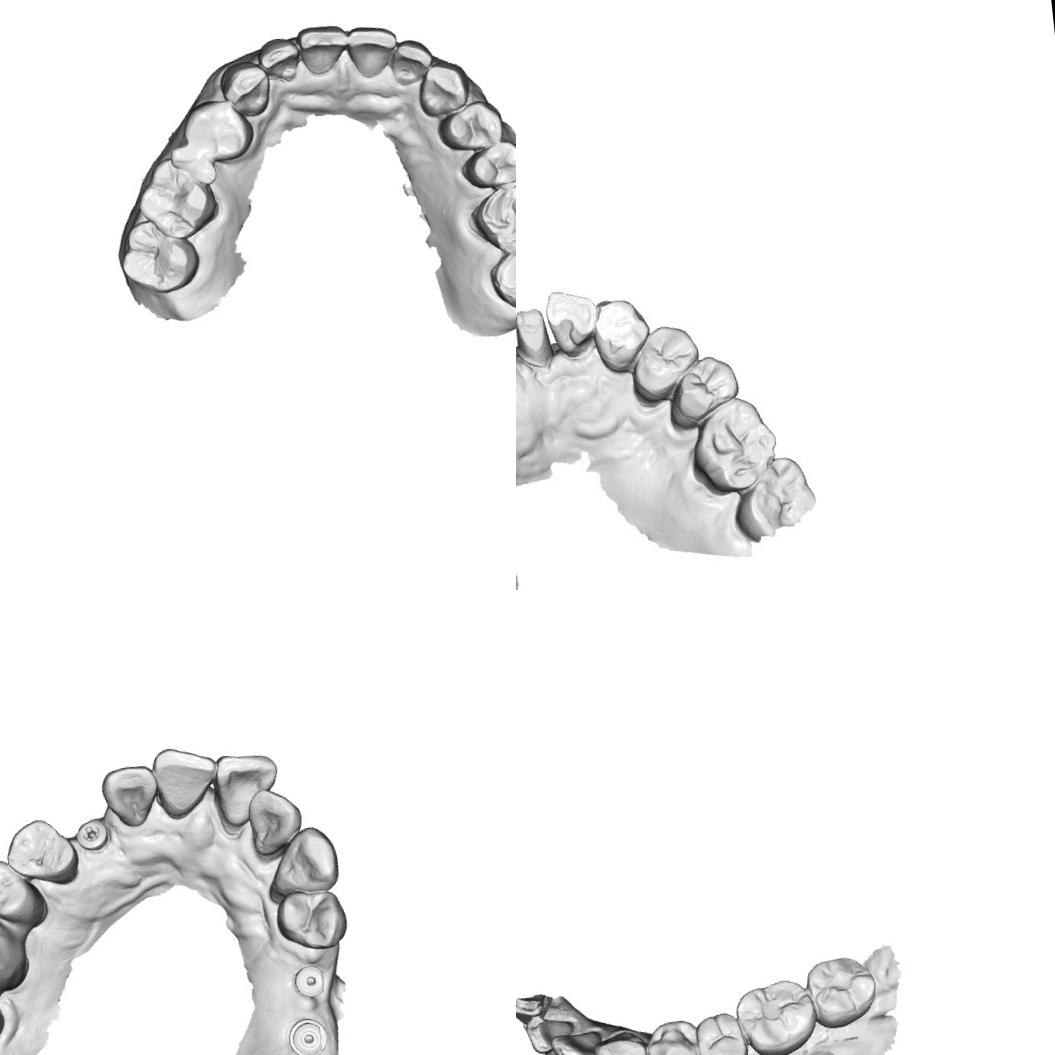canine: (262, 822, 342, 900), (215, 57, 276, 121), (414, 58, 472, 120), (594, 296, 646, 360), (590, 1027, 653, 1055)
crown: (516, 305, 553, 364)
implant: (285, 1015, 333, 1055), (290, 959, 330, 1001)
implant_plus: (73, 814, 113, 854)
incisor: (209, 748, 284, 832), (148, 742, 222, 820), (243, 783, 307, 860), (97, 761, 162, 833), (344, 21, 403, 82), (543, 286, 596, 352), (294, 20, 352, 80), (386, 35, 437, 89), (524, 1009, 580, 1055), (255, 34, 304, 86), (548, 1027, 608, 1055)
molar: (127, 151, 222, 246), (112, 214, 206, 300), (695, 396, 779, 490), (731, 974, 821, 1055), (800, 952, 882, 1034), (468, 169, 516, 261), (0, 892, 29, 998), (486, 234, 516, 315)
premolar: (0, 812, 82, 888), (178, 95, 258, 167), (272, 884, 351, 956), (630, 324, 700, 392), (433, 96, 509, 156), (673, 359, 736, 420), (456, 137, 516, 198), (692, 1008, 757, 1055), (0, 854, 39, 925), (641, 1015, 705, 1055)
